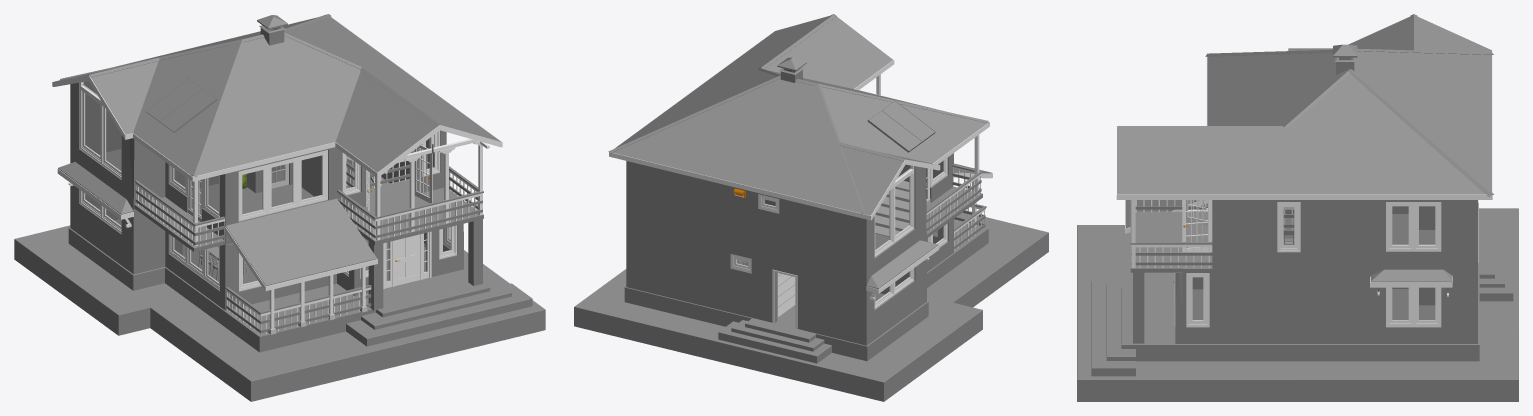
The model's file is Verde Residence.obj.
The picture shows the model from 3 angles, left to right: view 1: azimuth 30°, elevation 25°; view 2: azimuth 150°, elevation 25°; view 3: azimuth 270°, elevation 25°; orthographic projection. The views are drawn at different scales.
Visible parts, largest first — view 1: Roof1, Site_Foundation001, Structure001, White, Glass, Solar_System; view 2: Roof1, Structure001, Site_Foundation001, White, Glass, Wood_A, Solar_System; view 3: Roof1, Site_Foundation001, Structure001, White, Glass.
Part boxes in pixels (x1,y1,x2,y2): Roof1: (55, 14, 500, 333); Site_Foundation001: (14, 219, 545, 401); Structure001: (70, 25, 483, 310); White: (52, 16, 502, 334); Glass: (83, 81, 450, 283); Solar_System: (145, 78, 217, 132); Roof1: (608, 14, 991, 288); Structure001: (626, 67, 982, 345); Site_Foundation001: (574, 213, 1048, 401); White: (609, 16, 992, 328); Glass: (737, 161, 943, 301); Wood_A: (737, 180, 930, 317); Solar_System: (867, 100, 935, 152); Roof1: (1117, 14, 1493, 282); Site_Foundation001: (1077, 208, 1518, 401); Structure001: (1130, 57, 1477, 343); White: (1116, 17, 1492, 326); Glass: (1193, 206, 1434, 320).
Bounding box in the file's own units: 1337 × 1016 × 1457.
